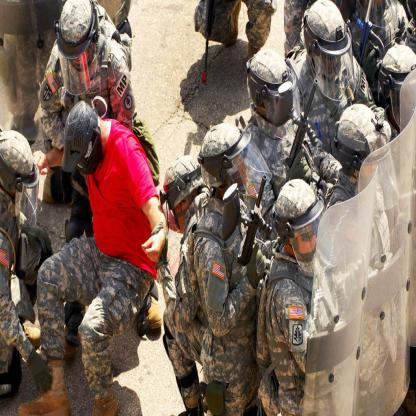face: (363, 148, 386, 190), (296, 217, 318, 260), (229, 152, 248, 191), (174, 191, 194, 225), (323, 45, 341, 82), (69, 48, 91, 70)
